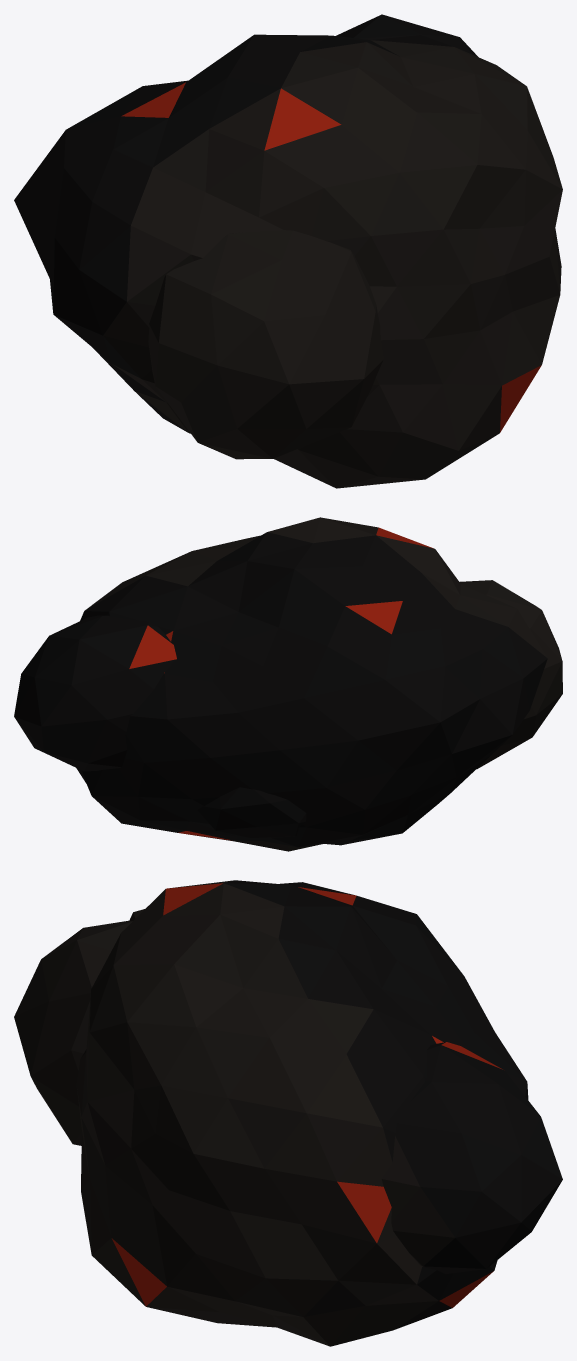
File: DISASTER_01_AtmosphericImpactAsteroid.obj
3 views of the same model, one above another, from view 1: azimuth 30°, elevation 25°; view 2: azimuth 150°, elevation 25°; view 3: azimuth 270°, elevation 25° (orthographic). The views are drawn at different scales.
Parts seen in each view (by area): view 1: DISASTER_01_AtmosphericImpactAsteroid_Body; view 2: DISASTER_01_AtmosphericImpactAsteroid_Body; view 3: DISASTER_01_AtmosphericImpactAsteroid_Body.
Boxes of the visible parts, left/top/right/bottom form: DISASTER_01_AtmosphericImpactAsteroid_Body: left=14, top=14, right=562, bottom=488; DISASTER_01_AtmosphericImpactAsteroid_Body: left=14, top=517, right=562, bottom=851; DISASTER_01_AtmosphericImpactAsteroid_Body: left=14, top=880, right=562, bottom=1346.
Bounding box in the file's own units: 4.3 × 3.14 × 3.98.
